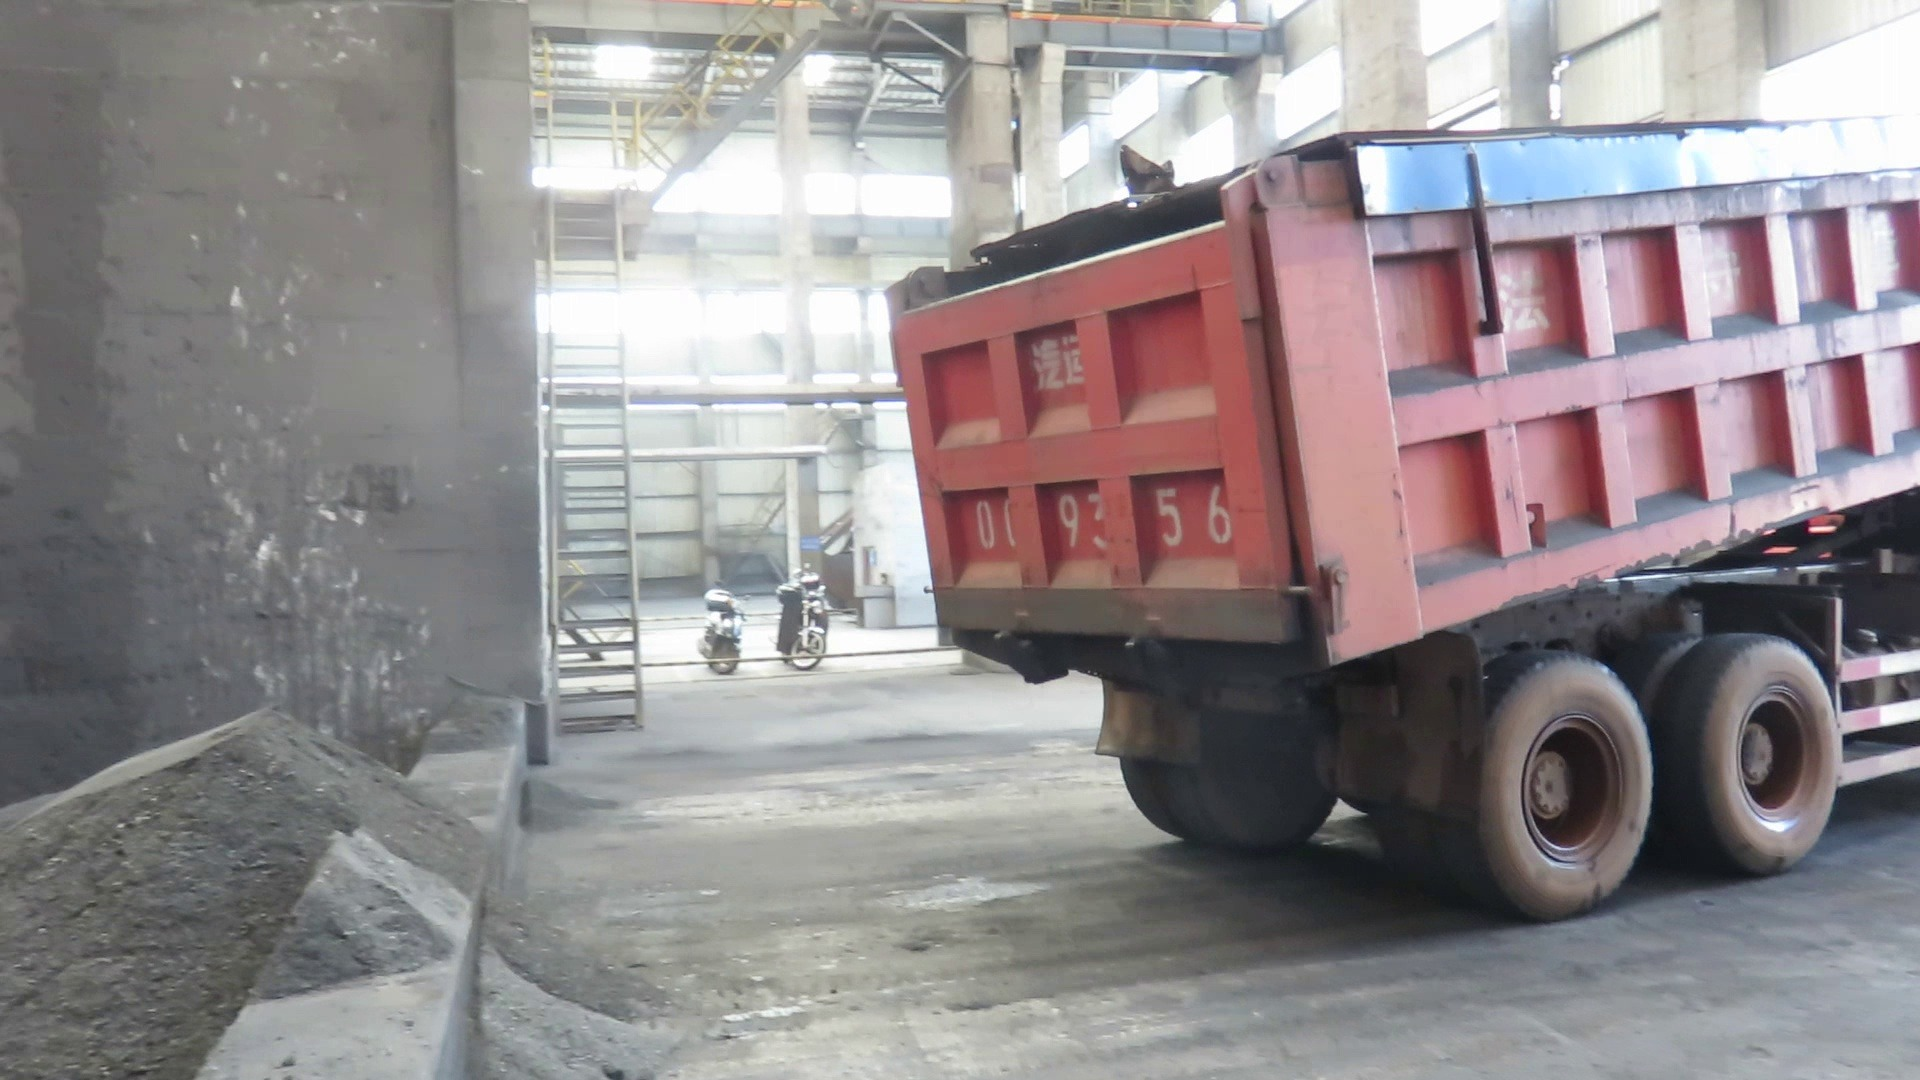truck: (866, 96, 1920, 932)
